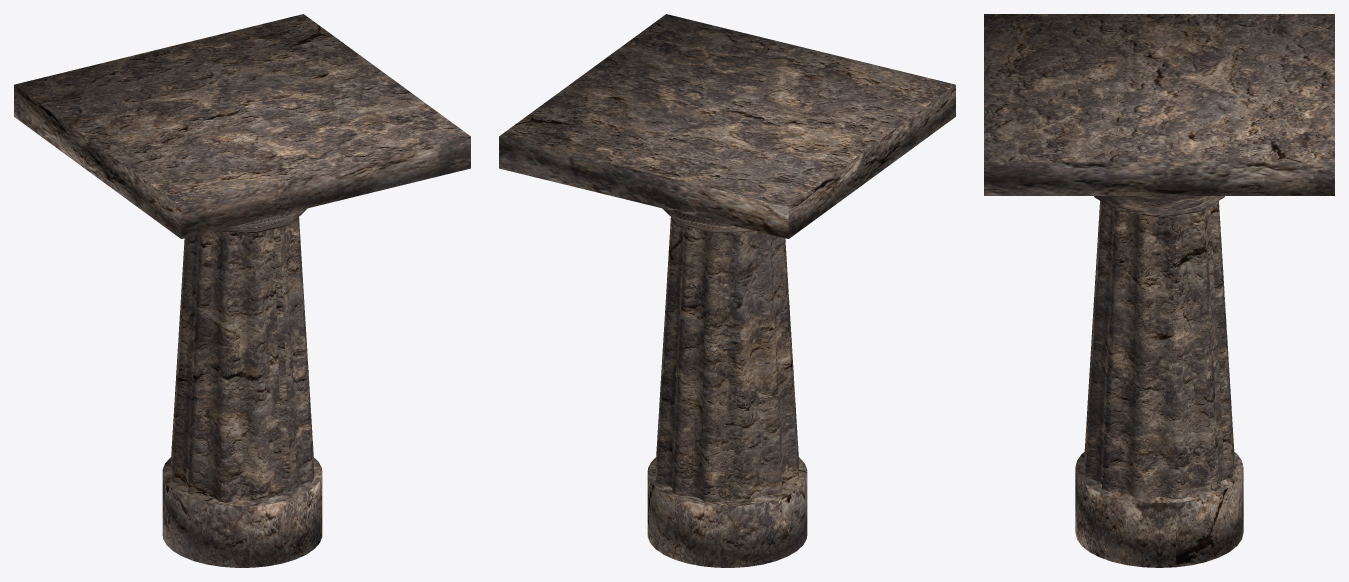
The model's file is Sockel.obj.
3 renders of one model, left to right at view 1: azimuth 30°, elevation 25°; view 2: azimuth 150°, elevation 25°; view 3: azimuth 270°, elevation 25°, orthographic. The views are drawn at different scales.
Parts seen in each view (by area): view 1: Sockel_Cylinder; view 2: Sockel_Cylinder; view 3: Sockel_Cylinder.
Part boxes in pixels (bbox=[...]): Sockel_Cylinder: bbox=[14, 14, 470, 567]; Sockel_Cylinder: bbox=[499, 14, 955, 567]; Sockel_Cylinder: bbox=[984, 14, 1334, 567].
Size of the model in its own units: 0.7036 by 0.9837 by 0.7036.
1 material, 1 textured.
